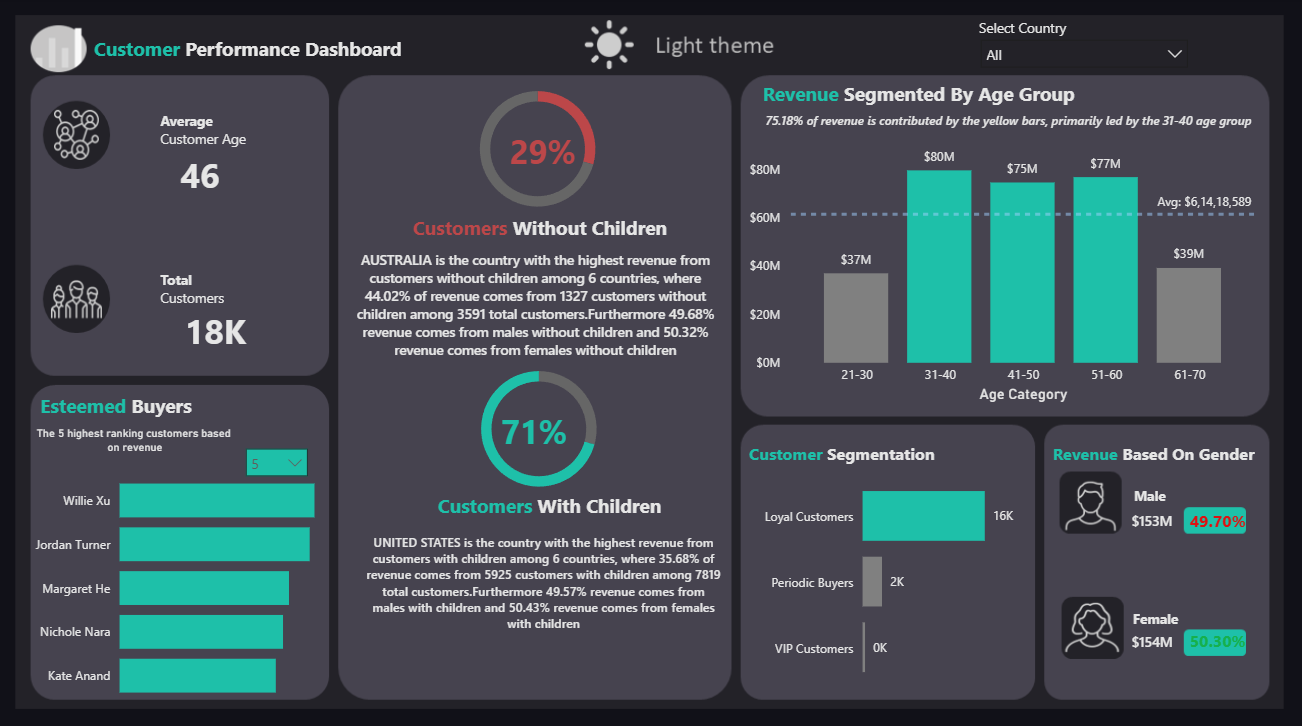

The dashboard page shown, as its layout file describes it:
{"tool":"powerbi","page":{"name":"Dark","canvas":[1280,720],"ordinal":1},"visuals":[{"type":"clusteredColumnChart","fields":{"Y":["All measures.Total Revenue"],"Category":["DimCustomer.Age Category "]},"box":[731.7,133.3,508.3,268.3],"z":0},{"type":"cardVisual","fields":{"Data":["Customer Measures.Avg caption"]},"box":[723.3,86.7,556.7,63.3],"z":1000},{"type":"textbox","box":[745.1,75.9,339.6,39.8],"z":2000},{"type":"donutChart","fields":{"Y":["Customer Measures.% C without CH Revenue","Customer Measures.% CWC Revenue"]},"box":[433.2,72.7,191.6,151.8],"z":3000},{"type":"donutChart","fields":{"Y":["Customer Measures.% C without CH Revenue","Customer Measures.% CWC Revenue"]},"box":[434.3,346.7,191.6,151.8],"z":4000},{"type":"cardVisual","fields":{"Data":["Customer Measures.% C without CH Revenue"]},"box":[473,96.3,131.9,102],"z":5000},{"type":"cardVisual","fields":{"Data":["Customer Measures.% CWC Revenue"]},"box":[464.2,371.5,131.9,102],"z":6000},{"type":"cardVisual","fields":{"Data":["Customer Measures.Caption customers without children"]},"box":[321.2,197.5,410,205],"z":7000},{"type":"textbox","box":[375,207.5,316.2,40],"z":8000},{"type":"textbox","box":[372.9,480.6,340.1,39.4],"z":9000},{"type":"cardVisual","fields":{"Data":["Customer Measures.Caption customers with children"]},"box":[329.6,478,409.7,189.1],"z":10000},{"type":"clusteredBarChart","fields":{"Category":["DimCustomer.Customer type"],"Y":["Customer Measures.# customers"]},"box":[740,445,261.7,250],"z":11000},{"type":"clusteredBarChart","fields":{"Category":["DimCustomer.FullName"],"Y":["Customer Measures.Dynamic customers"]},"box":[25,446.2,296.2,258.8],"z":12000},{"type":"card","fields":{"Values":["Customer Measures.% Male Revenue"]},"box":[1152.5,497.5,88.8,36.2],"z":13000},{"type":"card","fields":{"Values":["Customer Measures.% Female Revenue"]},"box":[1157.5,618.8,78.8,30],"z":14000},{"type":"card","fields":{"Values":["Customer Measures.Avg Customer Age"]},"box":[153.4,152.1,88.3,44.2],"z":15000},{"type":"card","fields":{"Values":["Customer Measures.# customers"]},"box":[153.6,306,118.2,43.3],"z":16000},{"type":"textbox","box":[153.4,106.7,105.5,52.8],"z":17000},{"type":"textbox","box":[153.4,262.6,106.7,51.5],"z":18000},{"type":"textbox","box":[1108,595.1,71.2,35.6],"z":19000},{"type":"textbox","box":[1109.2,474.8,71.2,35.6],"z":20000},{"type":"textbox","box":[35.6,382.8,223.3,40.5],"z":21000},{"type":"card","fields":{"Values":["Customer Measures.Caption Ranking"]},"box":[24.5,412.3,218.4,46.6],"z":22000},{"type":"slicer","fields":{"Values":["TopNCustomers 2.TopNCustomers"]},"box":[231.9,431.9,81,39.3],"z":23000},{"type":"textbox","box":[1029.5,430.7,239.3,40.5],"z":24000},{"type":"card","fields":{"Values":["Customer Measures.Male Revenue"]},"box":[1067.5,493.7,128.7,44.6],"z":25000},{"type":"card","fields":{"Values":["Customer Measures.Female Revenue"]},"box":[1067.5,611.9,128.7,44.6],"z":26000},{"type":"textbox","box":[88,31.5,340.1,40.7],"z":27000},{"type":"slicer","fields":{"Values":["DimGeography.Country"]},"box":[953.3,30.2,223.2,42],"z":28000},{"type":"textbox","box":[731.4,430.7,239,39.4],"z":29000},{"type":"shape","box":[560.7,21,211.4,51.2],"z":30000},{"type":"textbox","box":[957.2,14.4,223.2,30.2],"z":31000}]}

Visuals, with their boxes in screenshot pixels (x1, y1, x2, y2), scaled from the page's 1280x720 canvas onto the 1302x726 screenshot:
clusteredColumnChart - All measures.Total Revenue x DimCustomer.Age Category : bbox=[744, 134, 1261, 405]
cardVisual - Customer Measures.Avg caption: bbox=[736, 87, 1301, 151]
textbox: bbox=[758, 77, 1103, 117]
donutChart - Customer Measures.% C without CH Revenue x Customer Measures.% CWC Revenue: bbox=[441, 73, 636, 226]
donutChart - Customer Measures.% C without CH Revenue x Customer Measures.% CWC Revenue: bbox=[442, 350, 637, 503]
cardVisual - Customer Measures.% C without CH Revenue: bbox=[481, 97, 615, 200]
cardVisual - Customer Measures.% CWC Revenue: bbox=[472, 375, 606, 477]
cardVisual - Customer Measures.Caption customers without children: bbox=[327, 199, 744, 406]
textbox: bbox=[381, 209, 703, 250]
textbox: bbox=[379, 485, 725, 524]
cardVisual - Customer Measures.Caption customers with children: bbox=[335, 482, 752, 673]
clusteredBarChart - DimCustomer.Customer type x Customer Measures.# customers: bbox=[753, 449, 1019, 701]
clusteredBarChart - DimCustomer.FullName x Customer Measures.Dynamic customers: bbox=[25, 450, 327, 711]
card - Customer Measures.% Male Revenue: bbox=[1172, 502, 1263, 538]
card - Customer Measures.% Female Revenue: bbox=[1177, 624, 1258, 654]
card - Customer Measures.Avg Customer Age: bbox=[156, 153, 246, 198]
card - Customer Measures.# customers: bbox=[156, 309, 276, 352]
textbox: bbox=[156, 108, 263, 161]
textbox: bbox=[156, 265, 265, 317]
textbox: bbox=[1127, 600, 1199, 636]
textbox: bbox=[1128, 479, 1201, 515]
textbox: bbox=[36, 386, 263, 427]
card - Customer Measures.Caption Ranking: bbox=[25, 416, 247, 463]
slicer - TopNCustomers 2.TopNCustomers: bbox=[236, 435, 318, 475]
textbox: bbox=[1047, 434, 1291, 475]
card - Customer Measures.Male Revenue: bbox=[1086, 498, 1217, 543]
card - Customer Measures.Female Revenue: bbox=[1086, 617, 1217, 662]
textbox: bbox=[90, 32, 435, 73]
slicer - DimGeography.Country: bbox=[970, 30, 1197, 73]
textbox: bbox=[744, 434, 987, 474]
shape: bbox=[570, 21, 785, 73]
textbox: bbox=[974, 15, 1201, 45]
